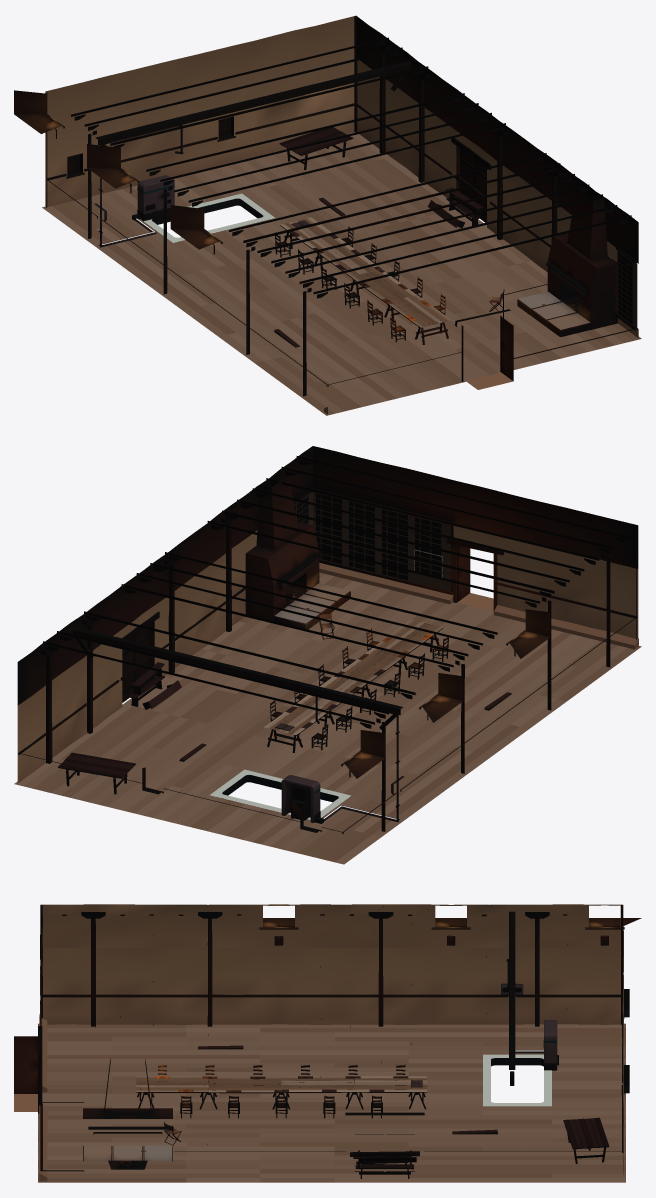
File: env_tally_house.glb
3 renders of one model, top to bottom at view 1: azimuth 30°, elevation 25°; view 2: azimuth 150°, elevation 25°; view 3: azimuth 270°, elevation 25°, orthographic. The views are drawn at different scales.
Visible parts, largest first — view 1: chunk_ty_hall__m_frontier, chunk_ty_hall__m_pellam, chunk_ty_hall__m_mask; view 2: chunk_ty_hall__m_frontier, chunk_ty_hall__m_mask, chunk_ty_hall__m_pellam; view 3: chunk_ty_hall__m_frontier, chunk_ty_hall__m_pellam.
Part boxes in pixels (x1,y1,x2,y2): chunk_ty_hall__m_frontier: [14, 15, 641, 415]; chunk_ty_hall__m_pellam: [94, 124, 274, 247]; chunk_ty_hall__m_mask: [145, 193, 632, 324]; chunk_ty_hall__m_frontier: [14, 446, 641, 864]; chunk_ty_hall__m_mask: [294, 493, 441, 580]; chunk_ty_hall__m_pellam: [210, 696, 404, 823]; chunk_ty_hall__m_frontier: [14, 904, 641, 1182]; chunk_ty_hall__m_pellam: [483, 959, 558, 1106].
Size of the model in its own units: 15.2 by 5.3 by 23.7.
